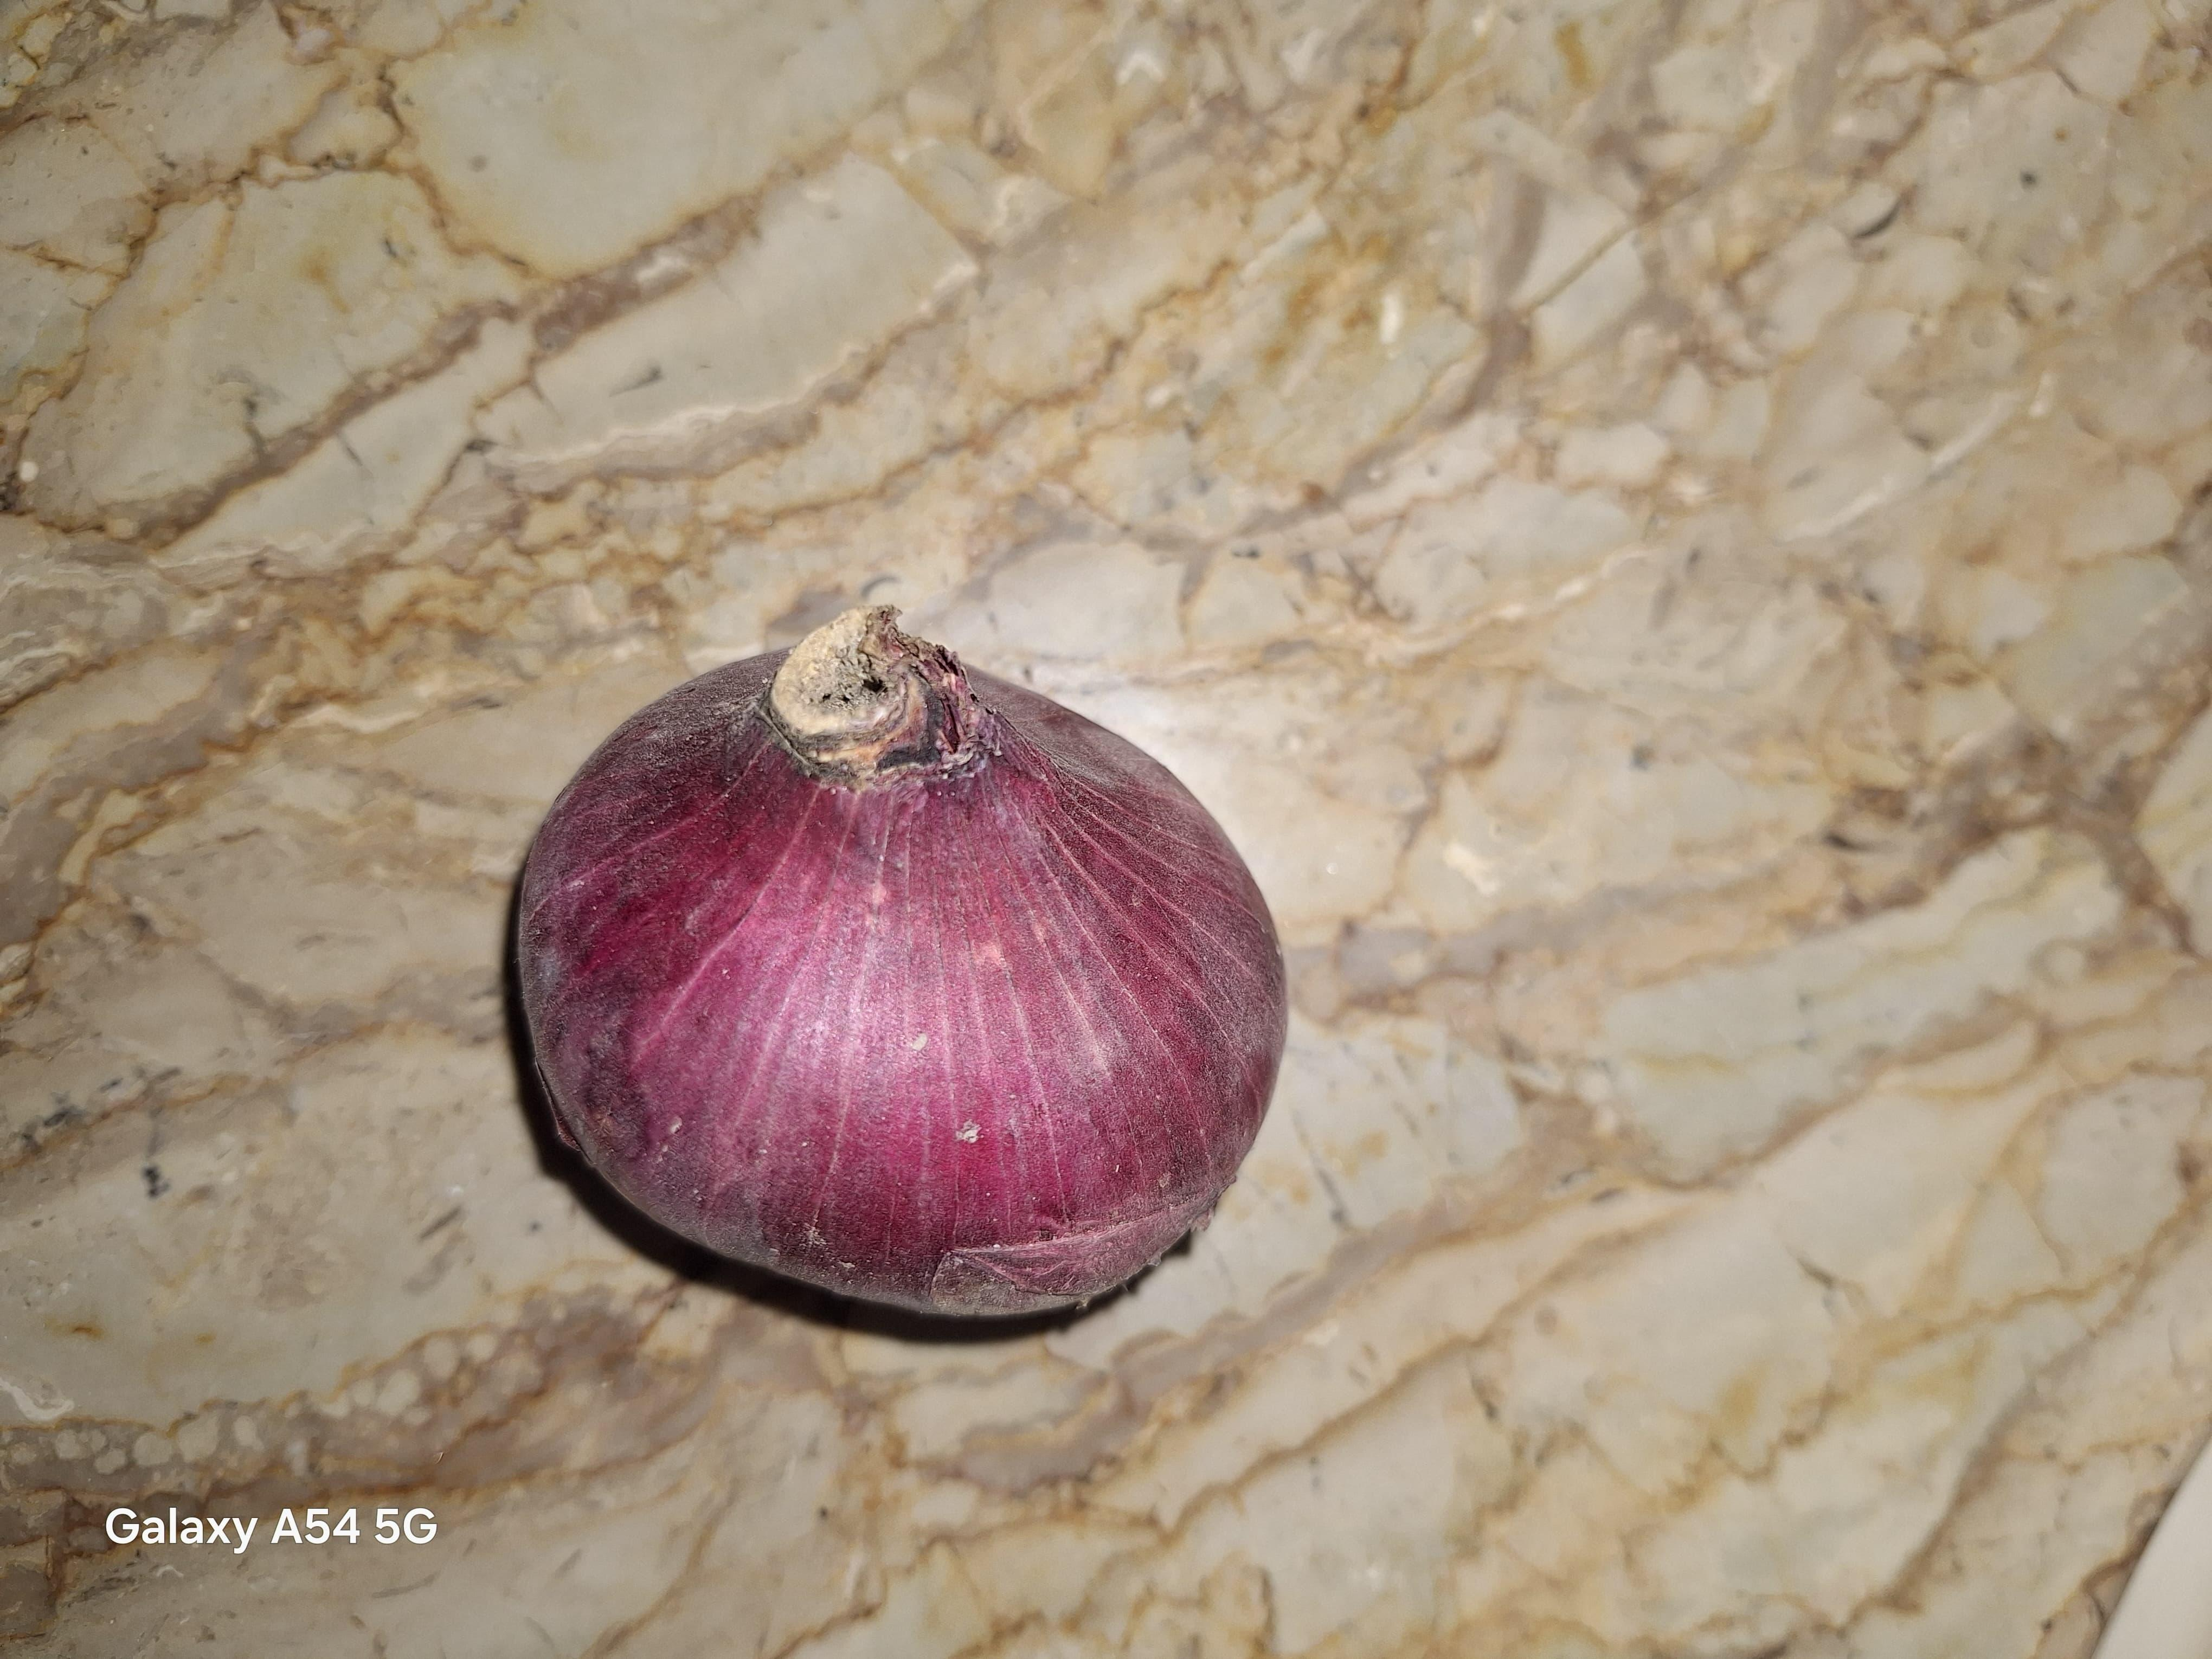non-mango: (507, 599, 1291, 1324)
